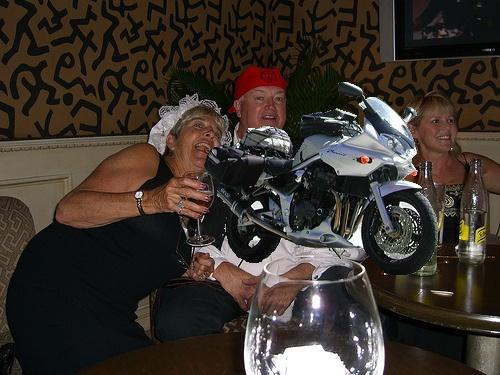tampered: (205, 83, 438, 275)
